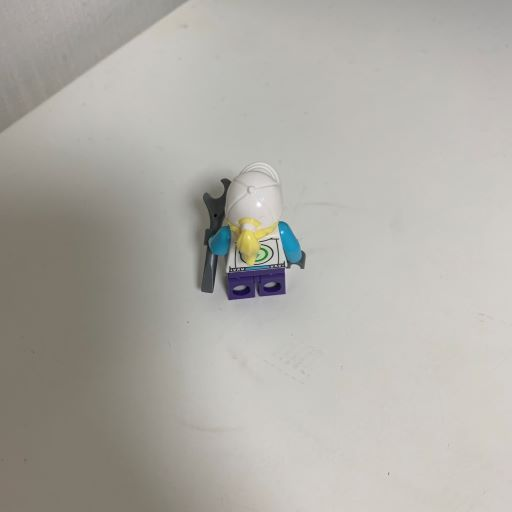human: (185, 155, 316, 310)
